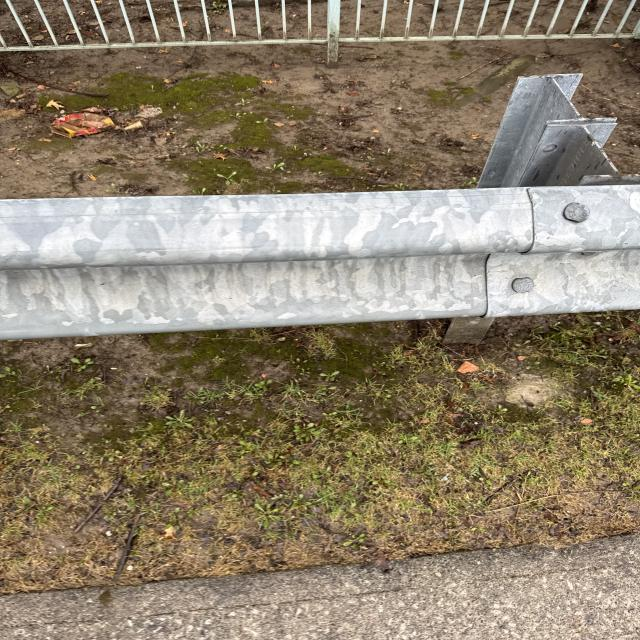Guard rail: (27, 119, 633, 325)
